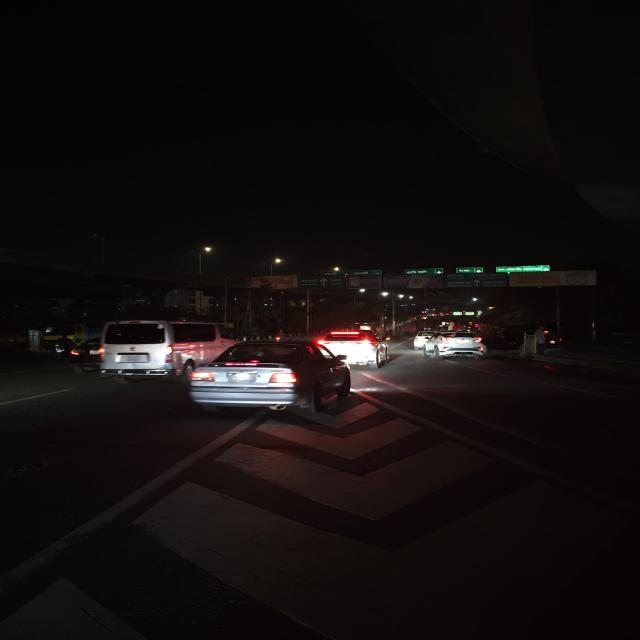bus: (321, 327, 388, 373)
car: (190, 339, 356, 417), (86, 317, 237, 379), (422, 330, 489, 360)
motorcycle: (50, 334, 76, 360)
